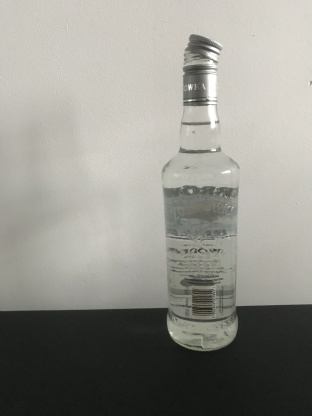nakretka: (181, 31, 223, 106)
